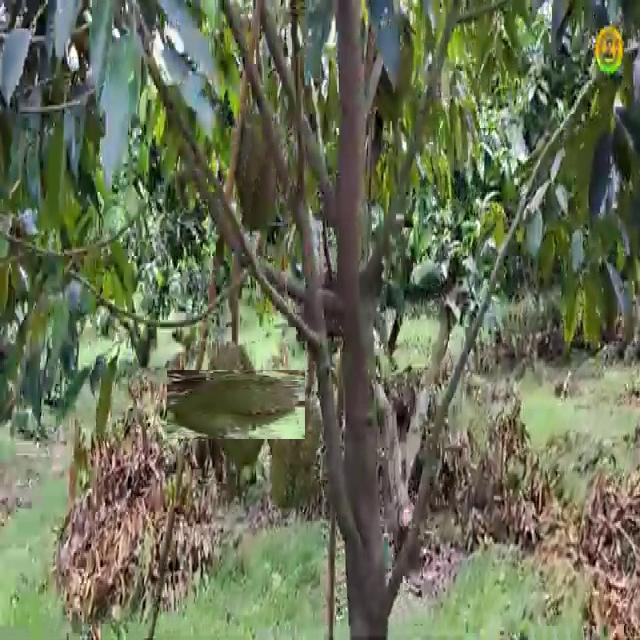durian: (184, 352, 288, 456)
